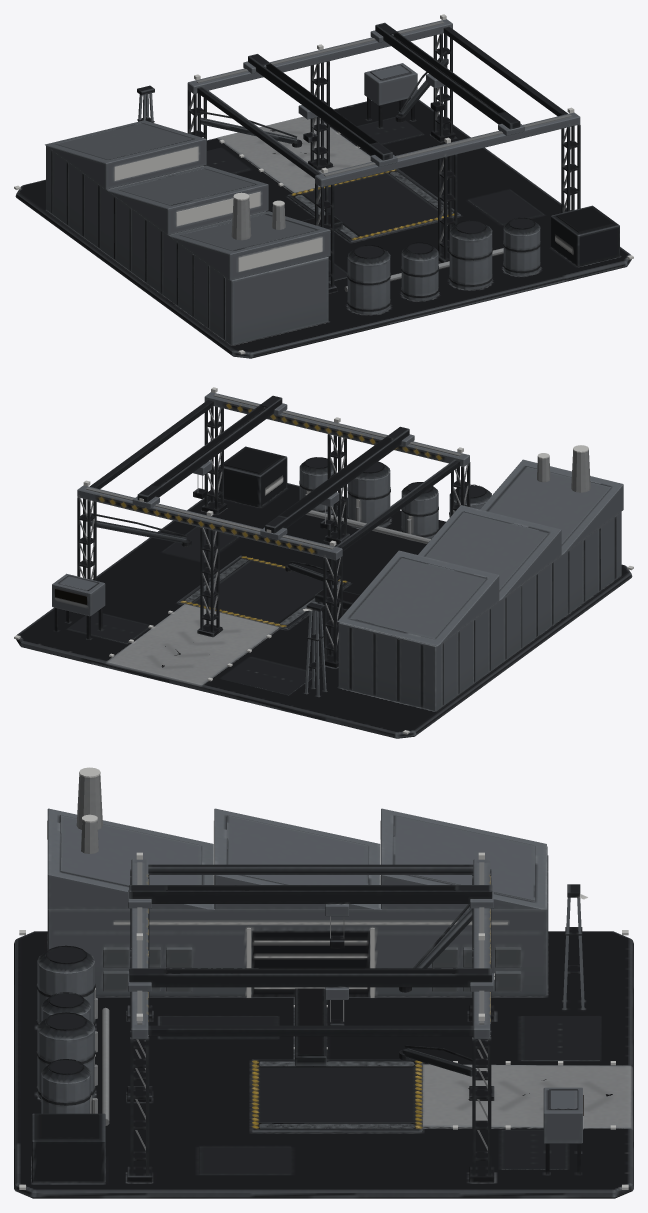
File: chs_advvehplant.fbx
3 renders of one model, top to bottom at view 1: azimuth 30°, elevation 25°; view 2: azimuth 150°, elevation 25°; view 3: azimuth 270°, elevation 25°, orthographic. The views are drawn at different scales.
Parts seen in each view (by area): view 1: base_bar, base_glow_running_bar, trolley1_bar, trolley2_bar; view 2: base_bar, trolley2_bar, trolley1_bar, base_glow_running_bar; view 3: base_bar, trolley2_bar, trolley1_bar, base_glow_running_bar, base_glow_power_bar.
Boxes of the visible parts, x1,y1,x2,y2 form: base_bar: (15, 19, 631, 358); base_glow_running_bar: (14, 14, 633, 354); trolley1_bar: (243, 54, 397, 166); trolley2_bar: (370, 22, 524, 135); base_bar: (16, 392, 632, 738); trolley2_bar: (132, 395, 287, 508); trolley1_bar: (260, 426, 414, 539); base_glow_running_bar: (14, 387, 633, 734); base_bar: (14, 774, 633, 1198); trolley2_bar: (128, 968, 493, 1025); trolley1_bar: (128, 885, 493, 948); base_glow_running_bar: (19, 820, 628, 1189); base_glow_power_bar: (79, 767, 587, 1113).
Size of the model in its own units: 4714 by 1751 by 4714.
Materials: 2 (2 with a texture image).
